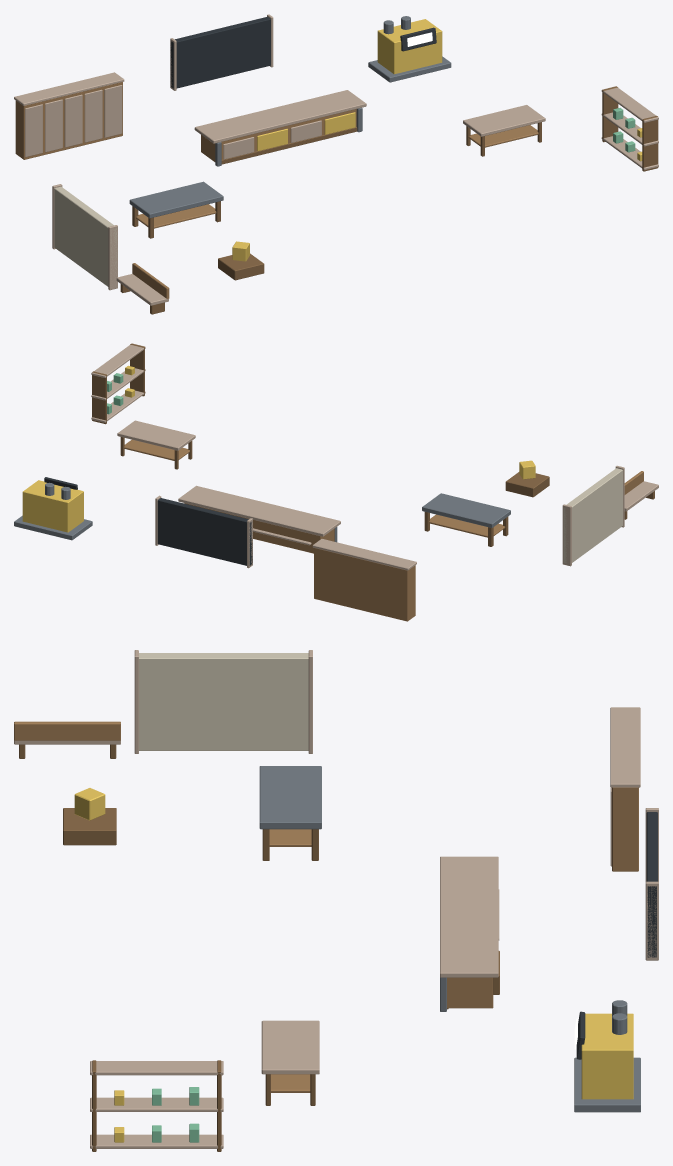
The model's file is glassyard_biome_studio.lod1.glb.
3 views of the same model, one above another, from view 1: azimuth 30°, elevation 25°; view 2: azimuth 150°, elevation 25°; view 3: azimuth 270°, elevation 25° (orthographic). The views are drawn at different scales.
Size of the model in its own units: 21.57 by 2.82 by 14.45.
